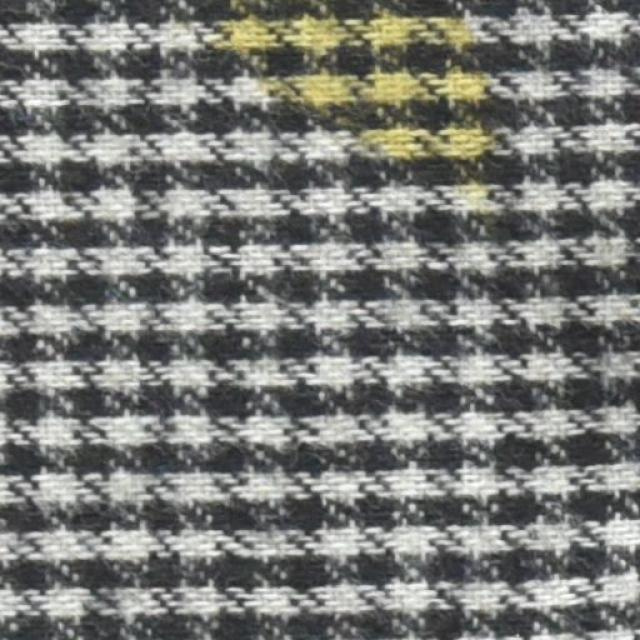Stain: (208, 0, 506, 183)
